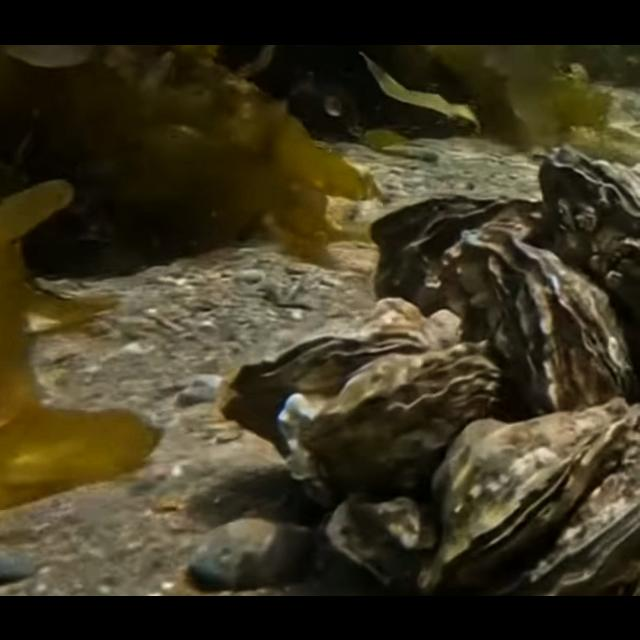Oyster-Closed: (276, 338, 504, 494), (485, 235, 635, 413)
Oyster-Open: (418, 399, 632, 591), (221, 326, 431, 456), (369, 194, 546, 316), (530, 142, 640, 322), (494, 466, 640, 596)
